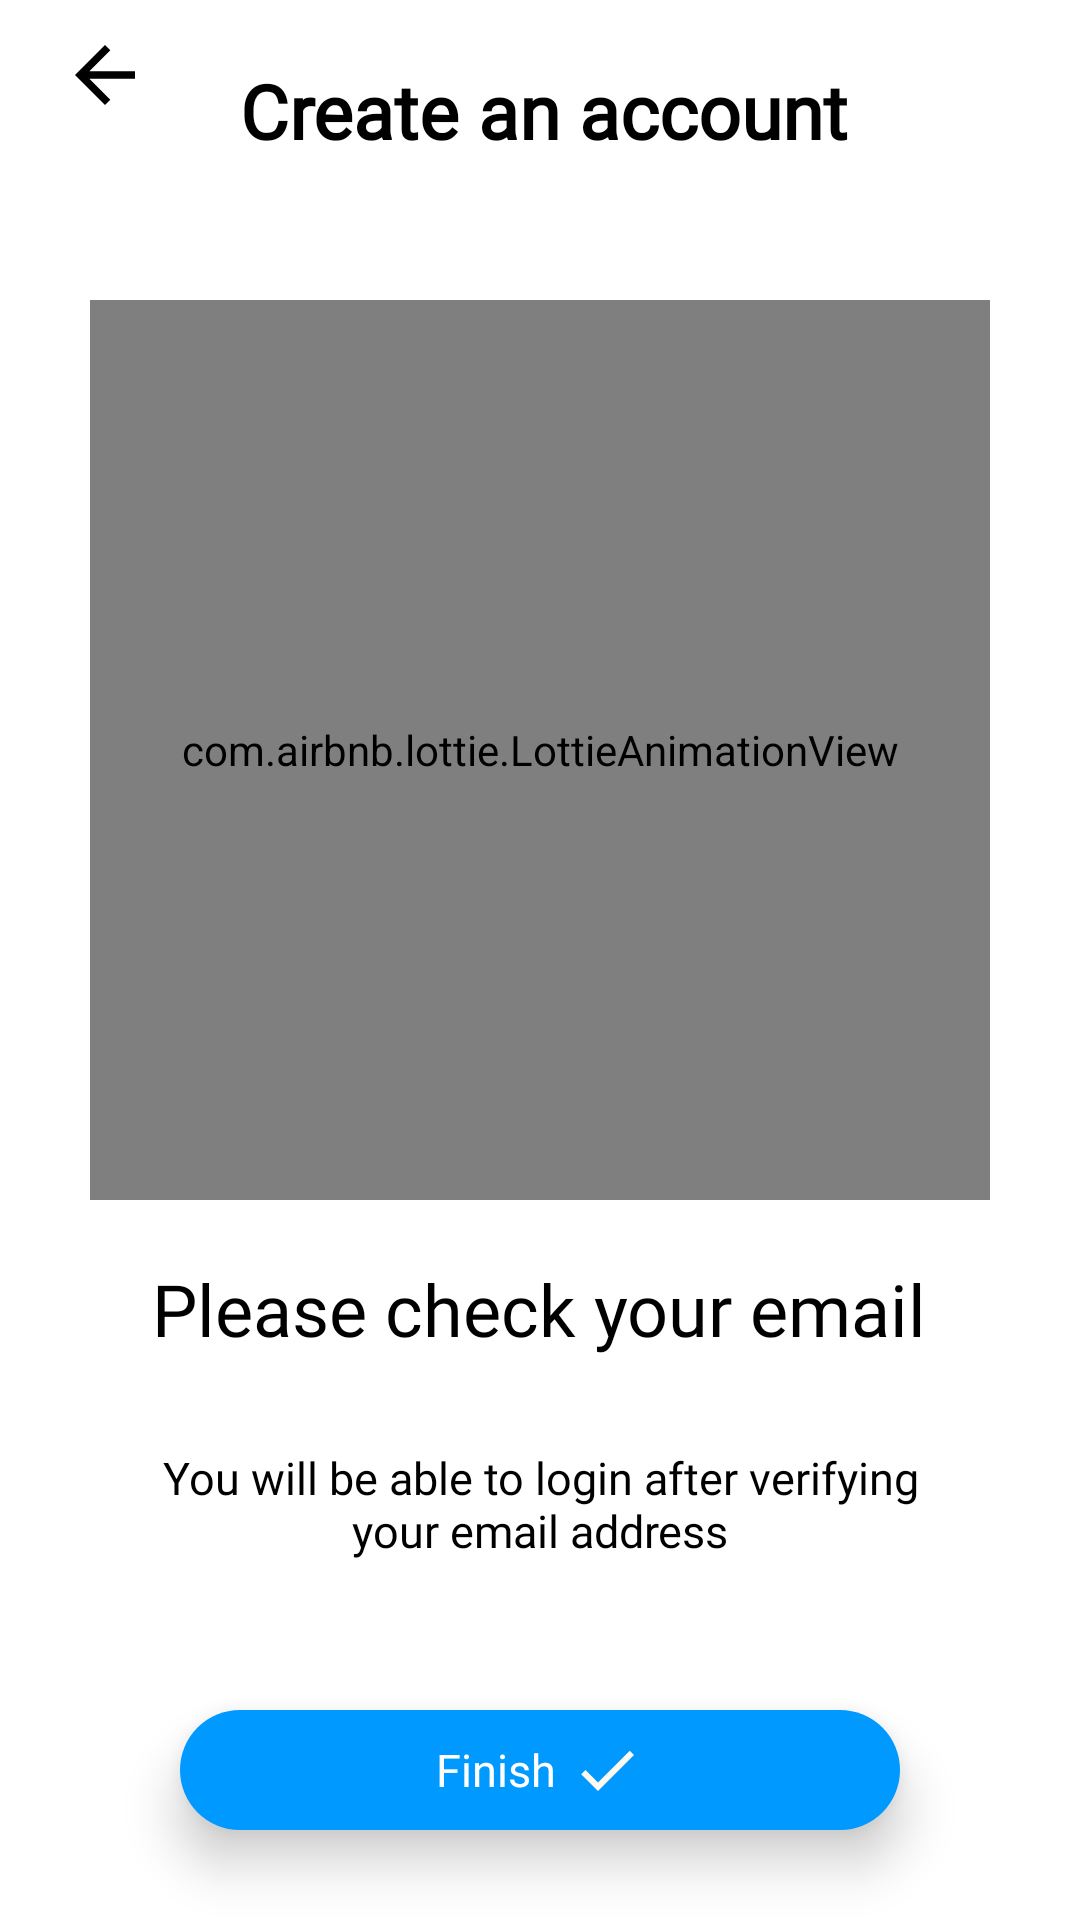

Icons on this 1080*1920 Android screen, each with its box as {"x1": x1, "y1": y1, "x2": x2, "y2": y2}:
arrow back: {"x1": 75, "y1": 45, "x2": 135, "y2": 105}
check: {"x1": 581, "y1": 1751, "x2": 634, "y2": 1791}
